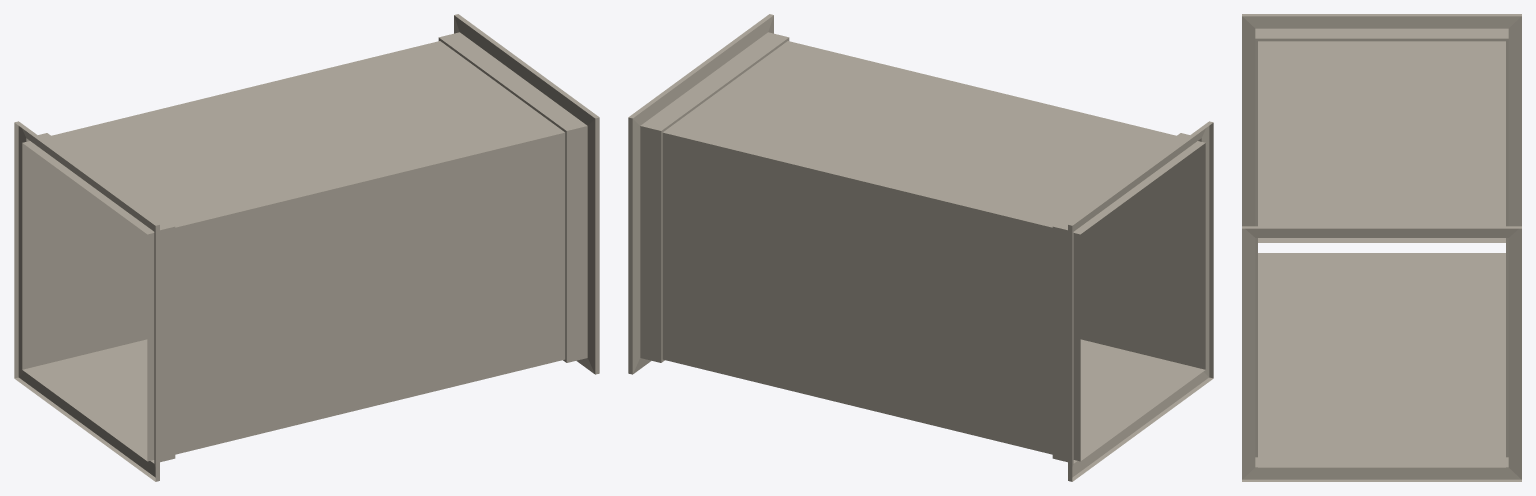
Rendered from SM_Airing_100.fbx.
3 renders of one model, left to right at view 1: azimuth 30°, elevation 25°; view 2: azimuth 150°, elevation 25°; view 3: azimuth 270°, elevation 25°, orthographic.
Parts seen in each view (by area): view 1: SM_Airing_100; view 2: SM_Airing_100; view 3: SM_Airing_100.
Part boxes in pixels (left/top/right/bottom): SM_Airing_100: left=14, top=14, right=599, bottom=481; SM_Airing_100: left=628, top=14, right=1213, bottom=481; SM_Airing_100: left=1242, top=14, right=1521, bottom=481.
Size of the model in its own units: 102 by 56.42 by 56.42.
